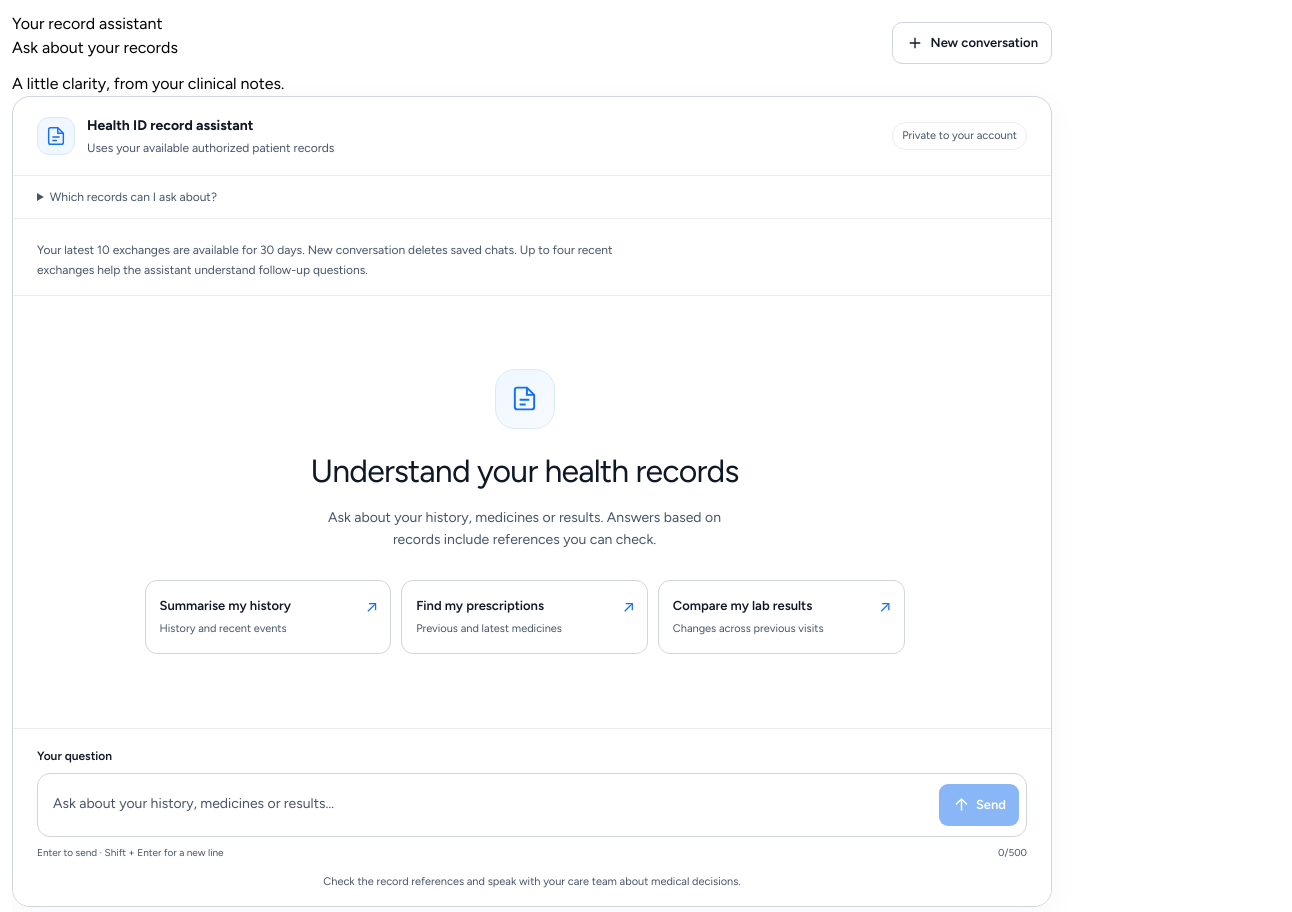
Test: shows safe patient error 401 without retrying
Type "Question" into the text box labelled "Your question" at [487, 805], box [45,781,929,829]
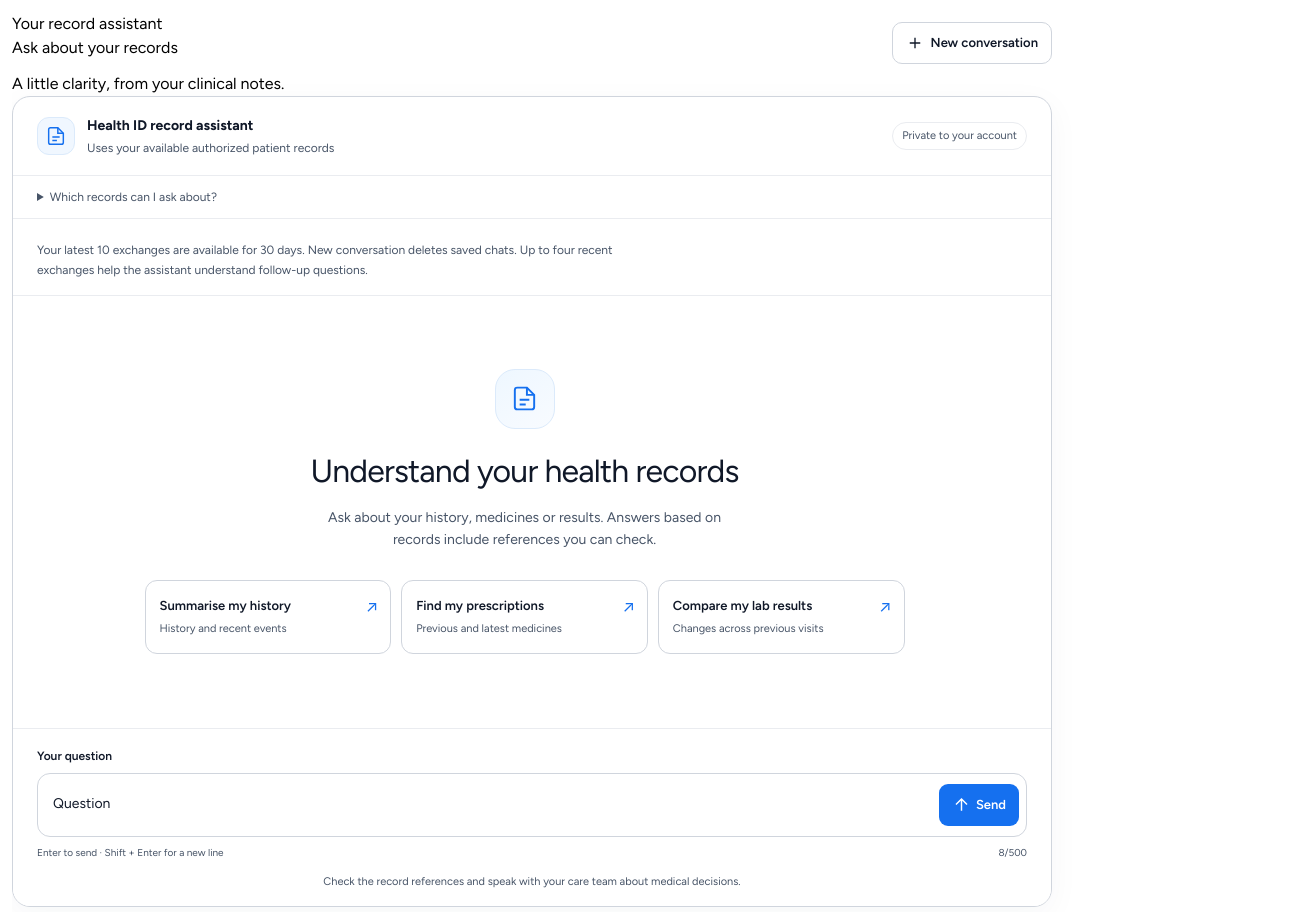
Click the button with aria-label "Send question" at [979, 805], box [939,784,1019,826]
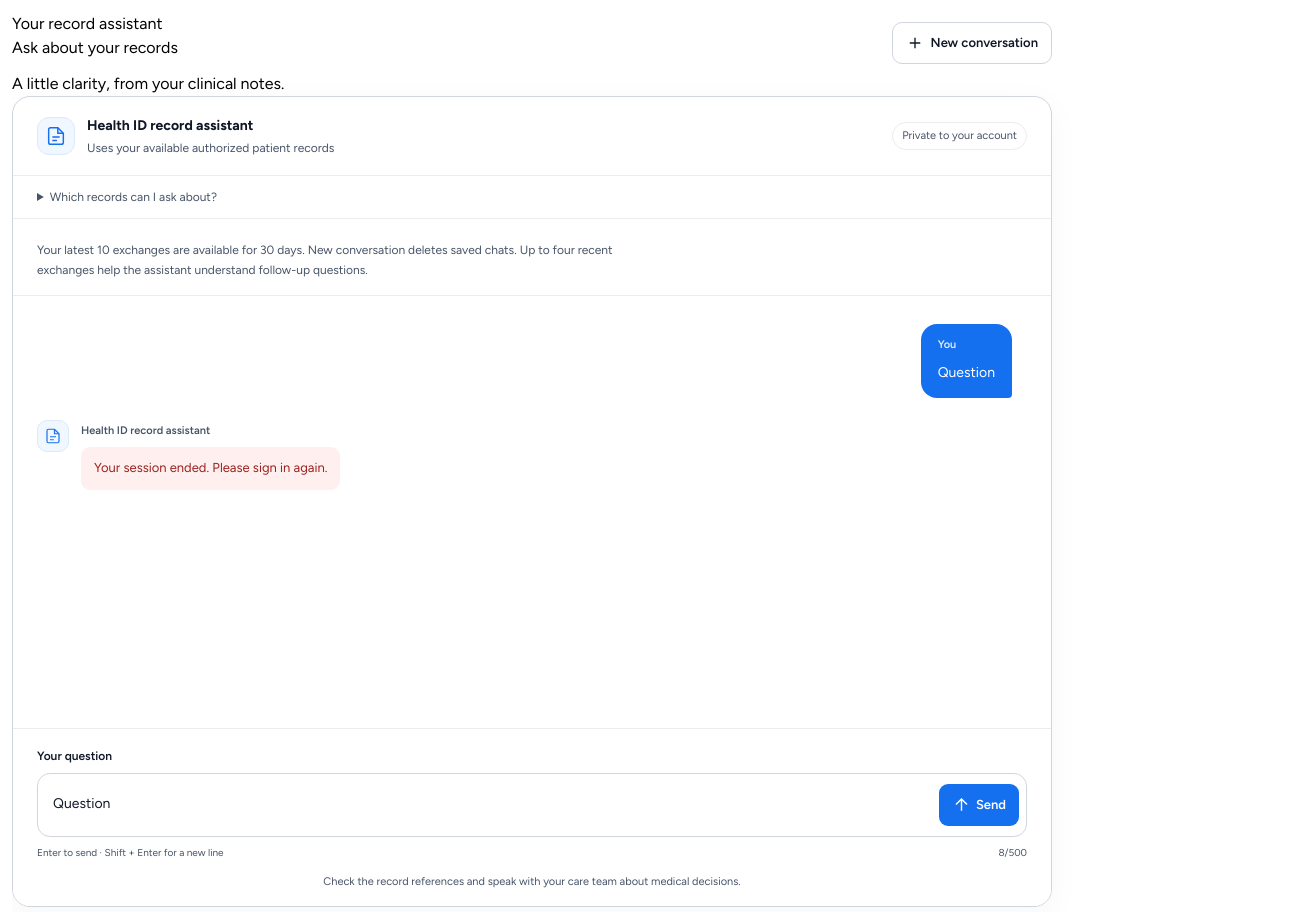
expect the message reads "Your session ended. Please sign in again.": met, box [94,460,327,475]
